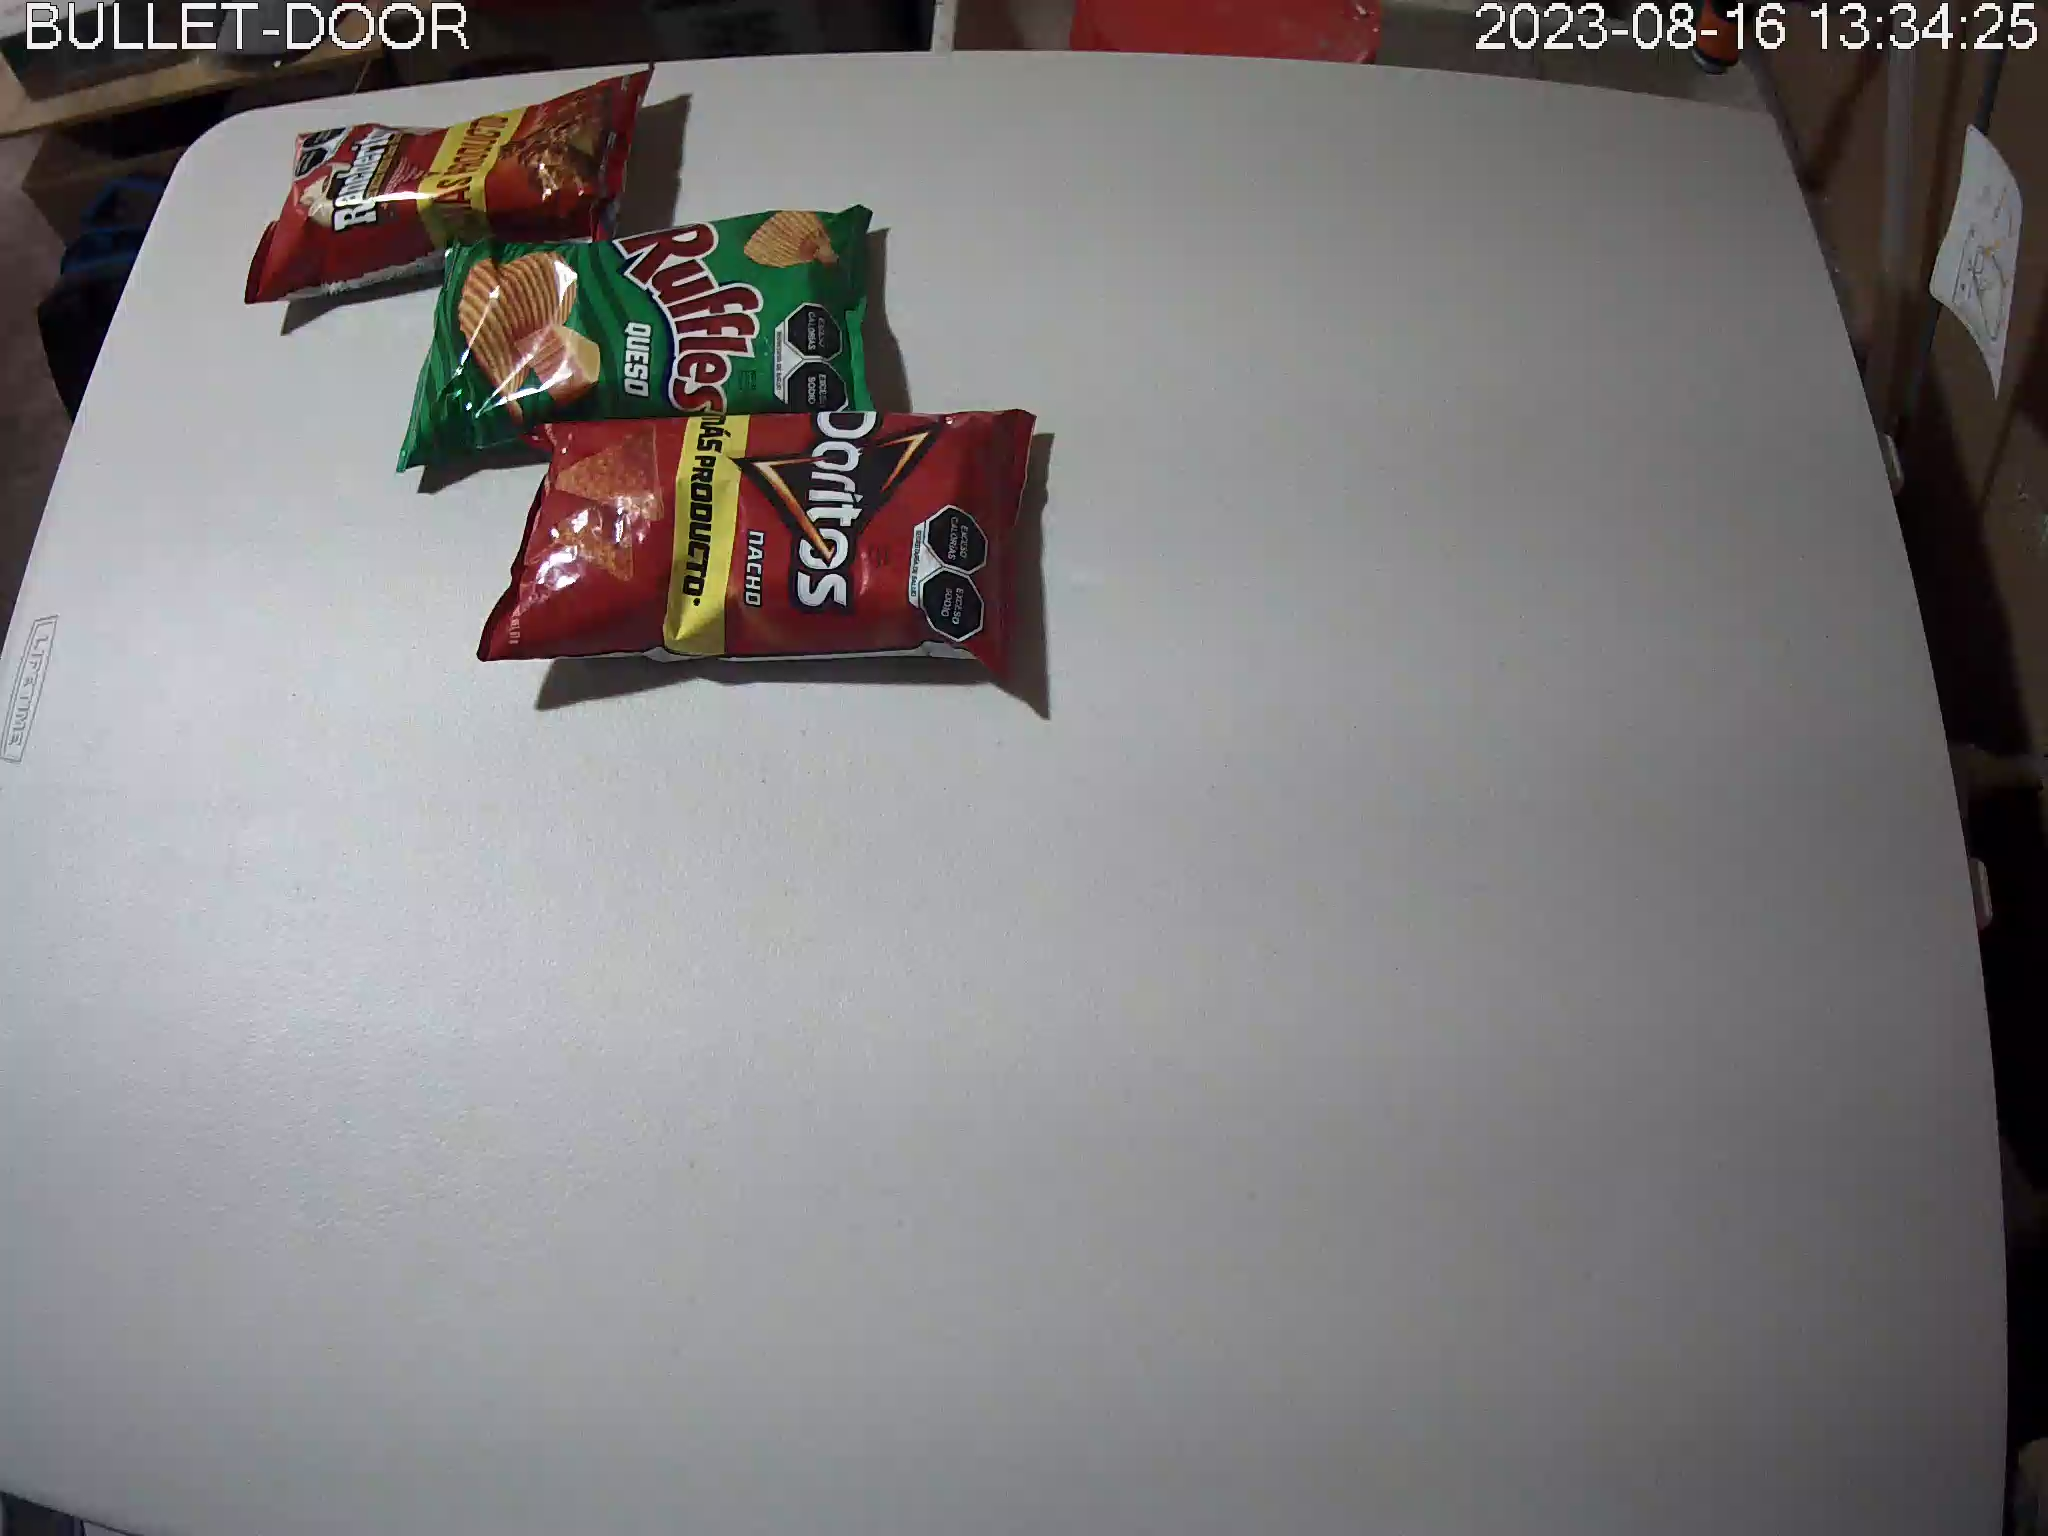DoritosN_61_F: (476, 408, 1042, 682)
Rancheritos_58_F: (245, 61, 656, 307)
RufflesQ_48_F: (397, 202, 879, 471)
